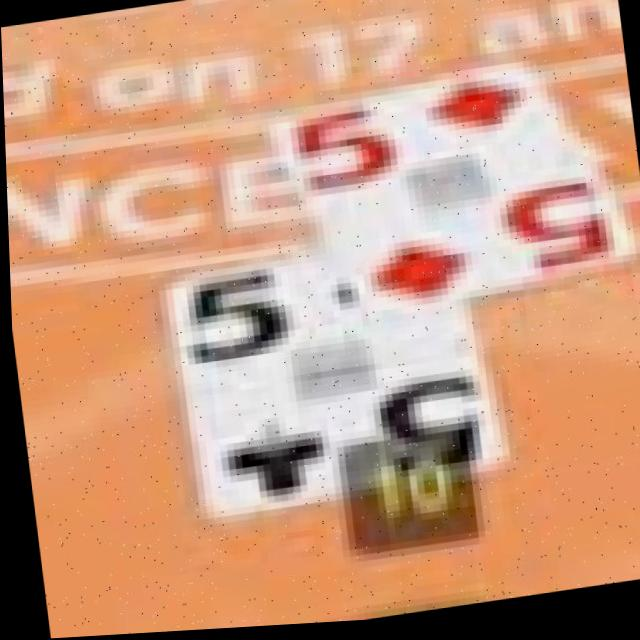Card-5: (272, 67, 636, 324), (171, 257, 505, 525)
